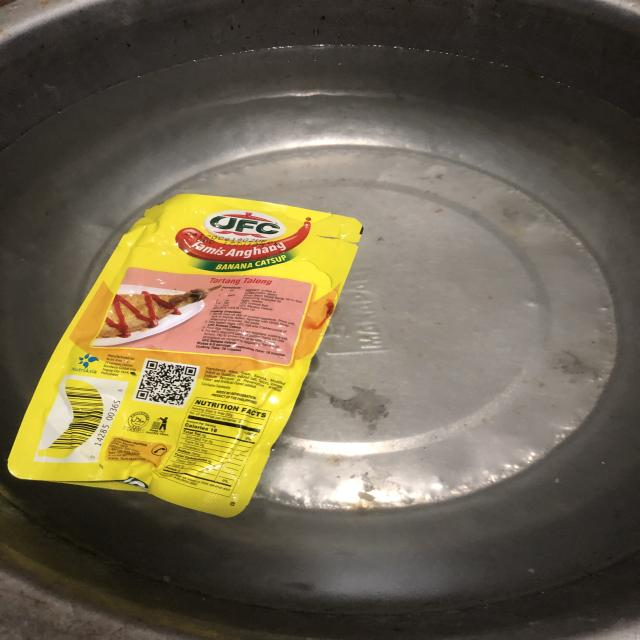Plastic Pouch: (0, 165, 400, 535)
